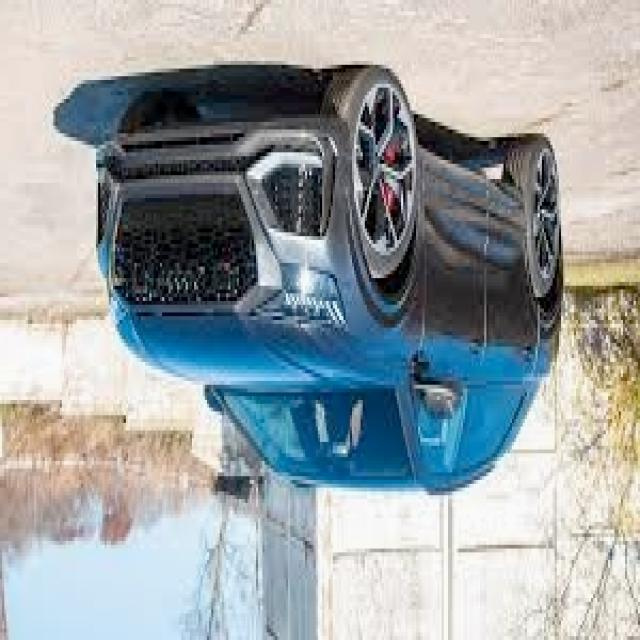black: (107, 91, 568, 505)
